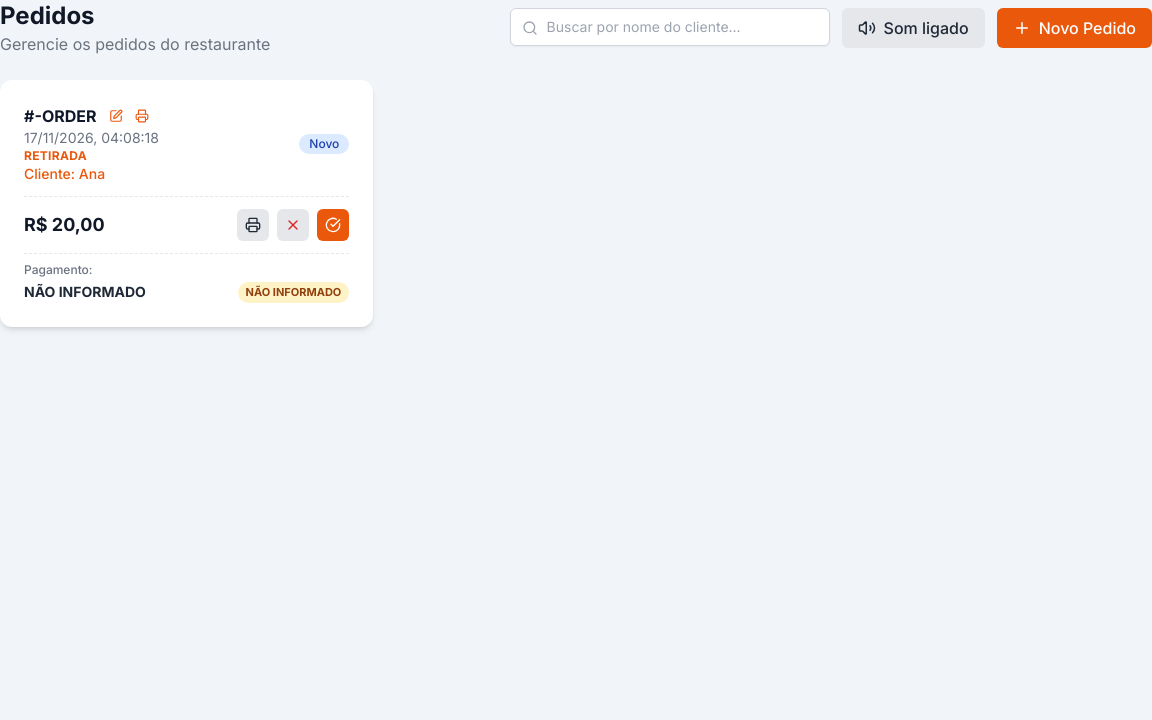
Test: PDV cancel of an order that needs a stock review › shows the stock review warning instead of the plain success message
Click the button titled "Cancelar Pedido" at (293,225), box [277,209,309,241]
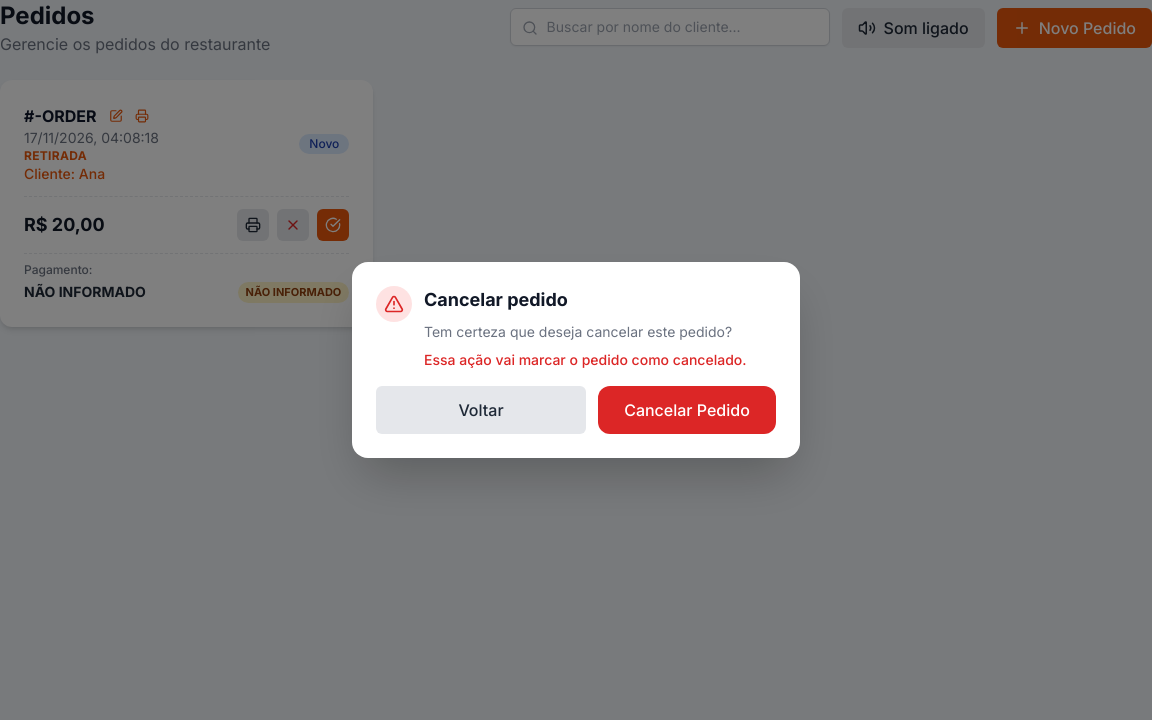
Click the button "Cancelar Pedido" at (687,410), box [598,386,776,434]
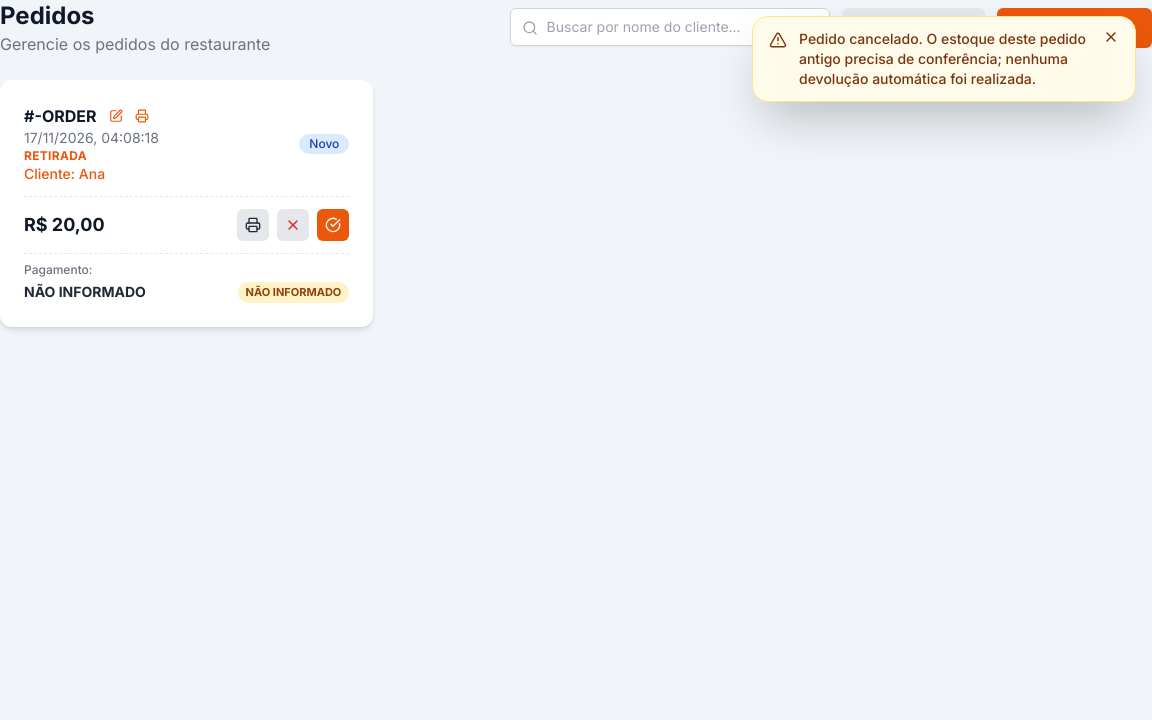
Expected: the message shows "Pedido cancelado. O estoque deste pedido antigo precisa de conferência; nenhuma devolução automática foi realizada.", [799,30,1086,87]
